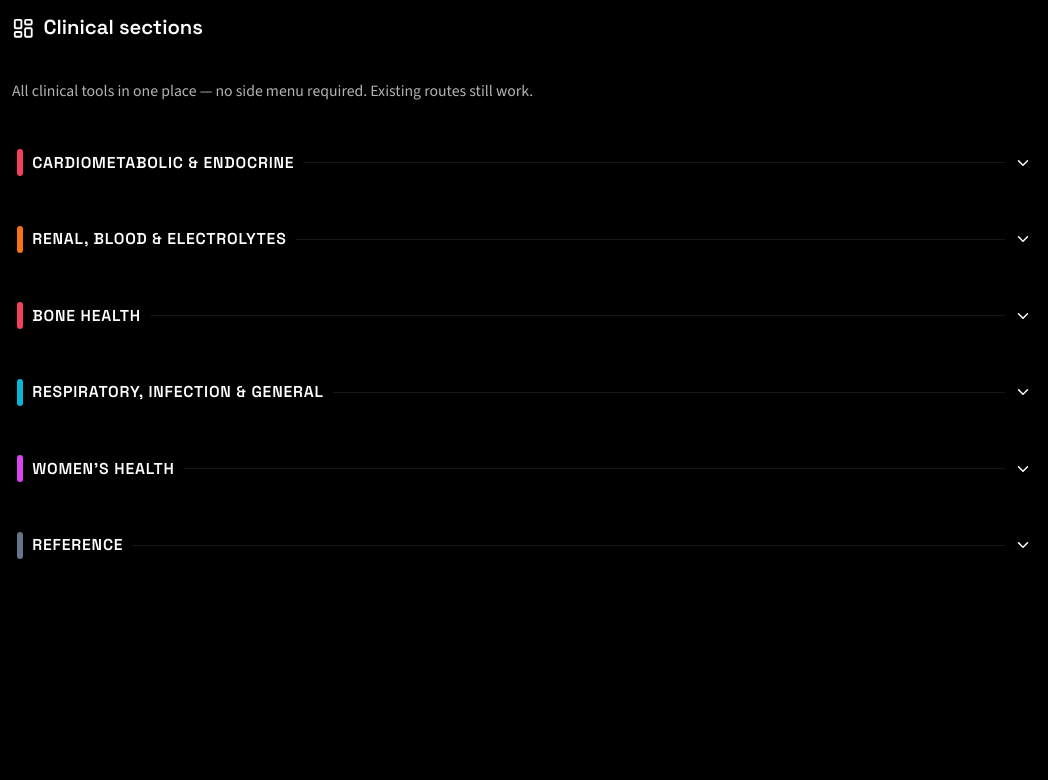
Test: PrimaryNavGrid collapsible sections › toggles a section open and closed from its heading button
expect the link "diabetes" is not shown: met
Click the button "Cardiometabolic & endocrine": coordinates (163, 162) 12,138 -> 1036,188
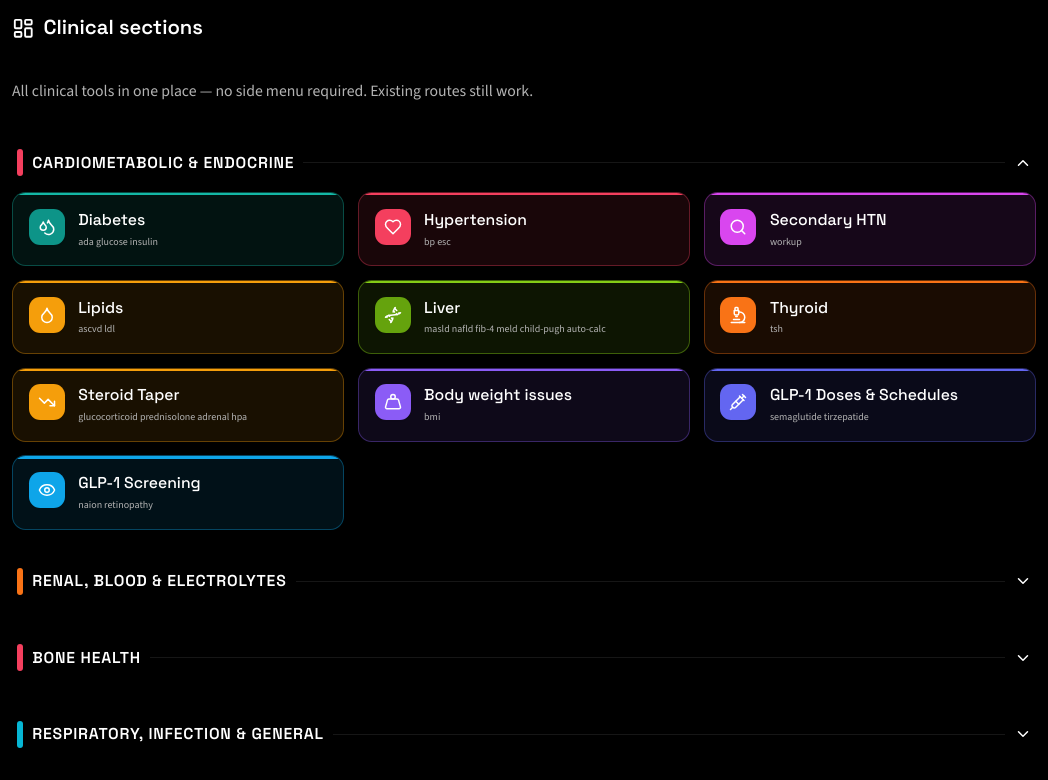
expect the button "Cardiometabolic & endocrine" is expanded: met
expect the link "Diabetes ada glucose insulin" is shown: met, box 12,192 -> 344,266
Click the button "Cardiometabolic & endocrine": coordinates (163, 162) 12,138 -> 1036,188
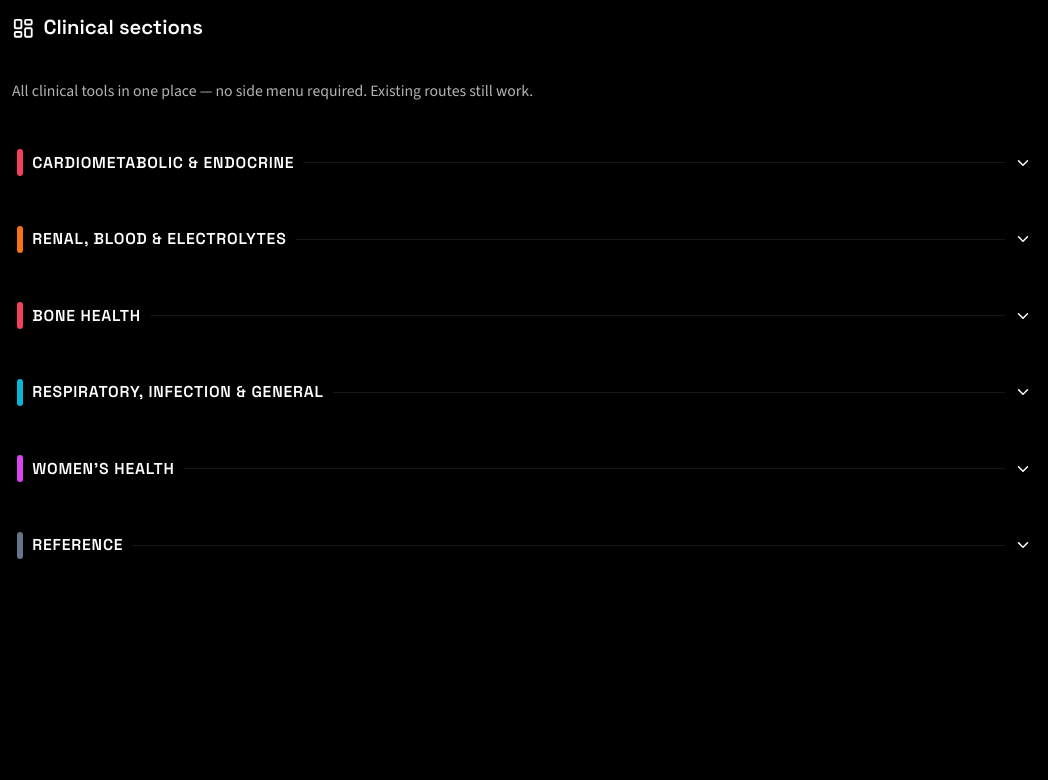
expect the button "Cardiometabolic & endocrine" is collapsed: met, box 12,138 -> 1036,188
expect the link "Diabetes" is gone: met
